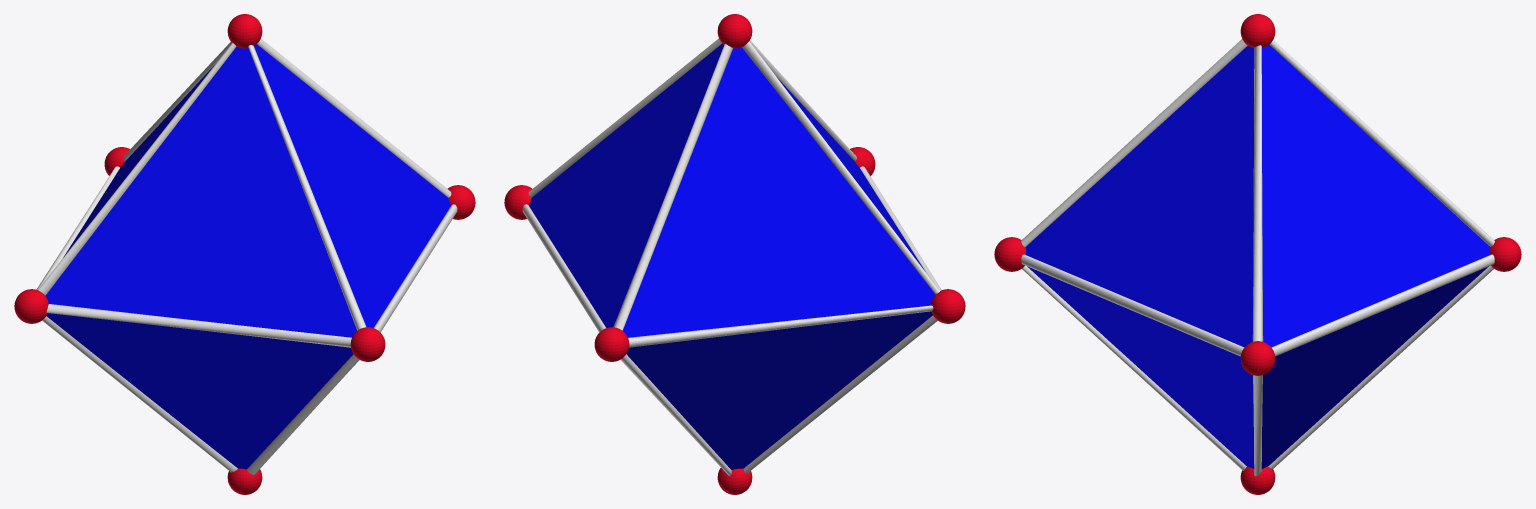
The picture shows the model from 3 angles, left to right: view 1: azimuth 30°, elevation 25°; view 2: azimuth 150°, elevation 25°; view 3: azimuth 270°, elevation 25°; orthographic projection.
Parts seen in each view (by area): view 1: Full, F, E, V; view 2: Full, F, E, V; view 3: Full, F, E, V.
Boxes of the visible parts, bbox=[...] form: Full: bbox=[14, 14, 475, 494]; F: bbox=[46, 313, 353, 469]; E: bbox=[36, 39, 457, 474]; V: bbox=[30, 32, 466, 484]; Full: bbox=[504, 14, 965, 494]; F: bbox=[626, 311, 932, 469]; E: bbox=[522, 38, 941, 475]; V: bbox=[513, 32, 949, 484]; Full: bbox=[994, 14, 1521, 494]; F: bbox=[1027, 266, 1488, 468]; E: bbox=[1021, 39, 1494, 476]; V: bbox=[1012, 32, 1503, 484].
Bounding box in the file's own units: 150 × 150 × 150.
